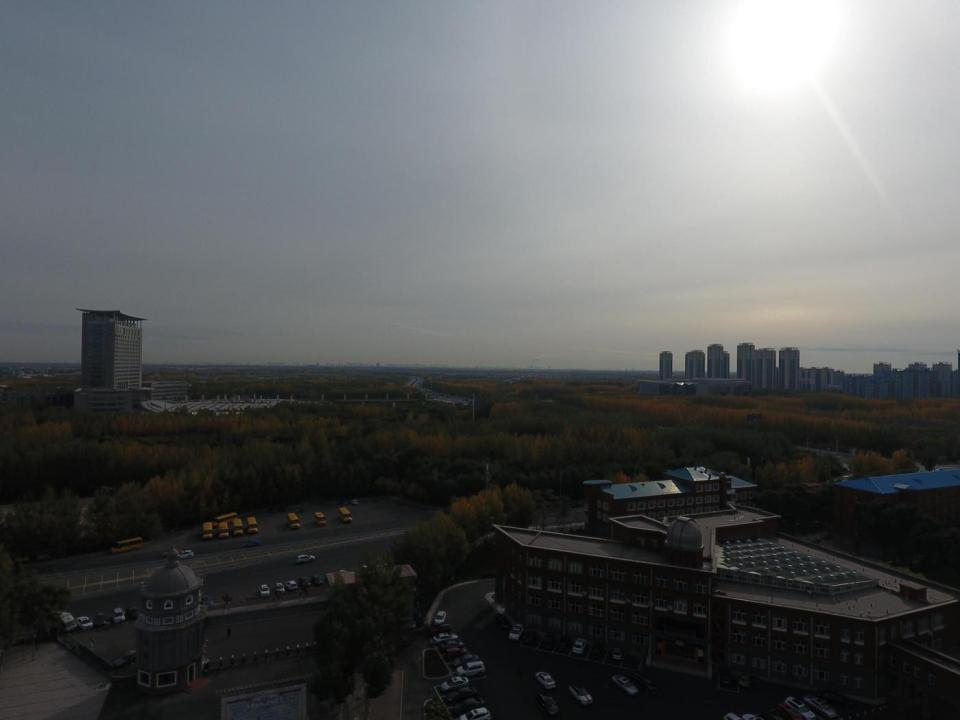bus: (110, 538, 144, 554), (212, 513, 239, 525), (338, 506, 353, 524), (245, 516, 258, 535), (217, 522, 230, 540), (287, 512, 300, 530), (202, 521, 213, 541), (232, 518, 244, 536), (314, 512, 326, 528)
car: (803, 695, 838, 719), (784, 696, 816, 720), (567, 682, 594, 708), (611, 673, 639, 698), (534, 690, 560, 716), (452, 696, 486, 715), (632, 671, 658, 695), (446, 686, 477, 704), (456, 660, 485, 678), (112, 648, 138, 668), (440, 676, 469, 693), (459, 705, 491, 720), (777, 702, 803, 720), (535, 670, 556, 690), (428, 623, 452, 637), (444, 647, 469, 660), (452, 654, 479, 666), (76, 615, 95, 631), (508, 622, 523, 642), (433, 632, 459, 643), (440, 640, 465, 650), (199, 594, 214, 610), (572, 637, 585, 655), (295, 553, 316, 564), (94, 611, 107, 628), (112, 607, 125, 623), (127, 606, 140, 622), (722, 712, 747, 720), (434, 610, 447, 625), (258, 582, 270, 598), (612, 644, 624, 660), (742, 712, 765, 720), (243, 538, 261, 548), (176, 550, 196, 559), (284, 581, 297, 592), (311, 575, 324, 586), (162, 549, 182, 556), (299, 577, 311, 588), (276, 583, 285, 594), (350, 499, 360, 506)
truck: (40, 611, 77, 632)
van: (737, 670, 759, 688)
